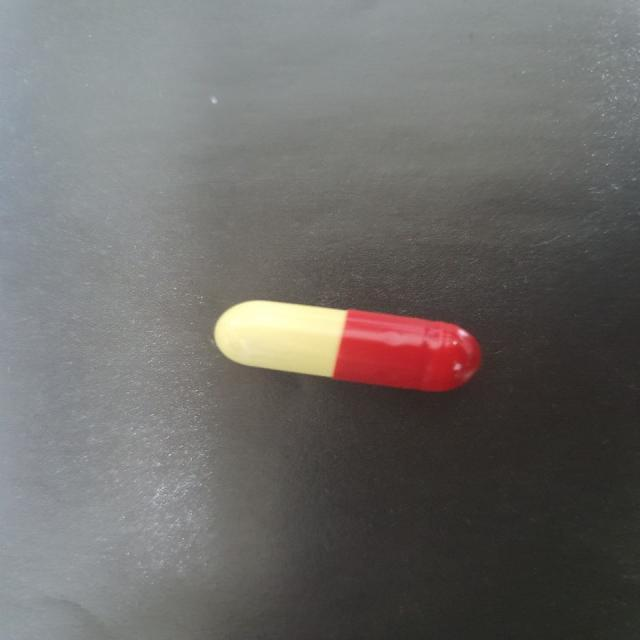pill: (204, 286, 481, 394)
